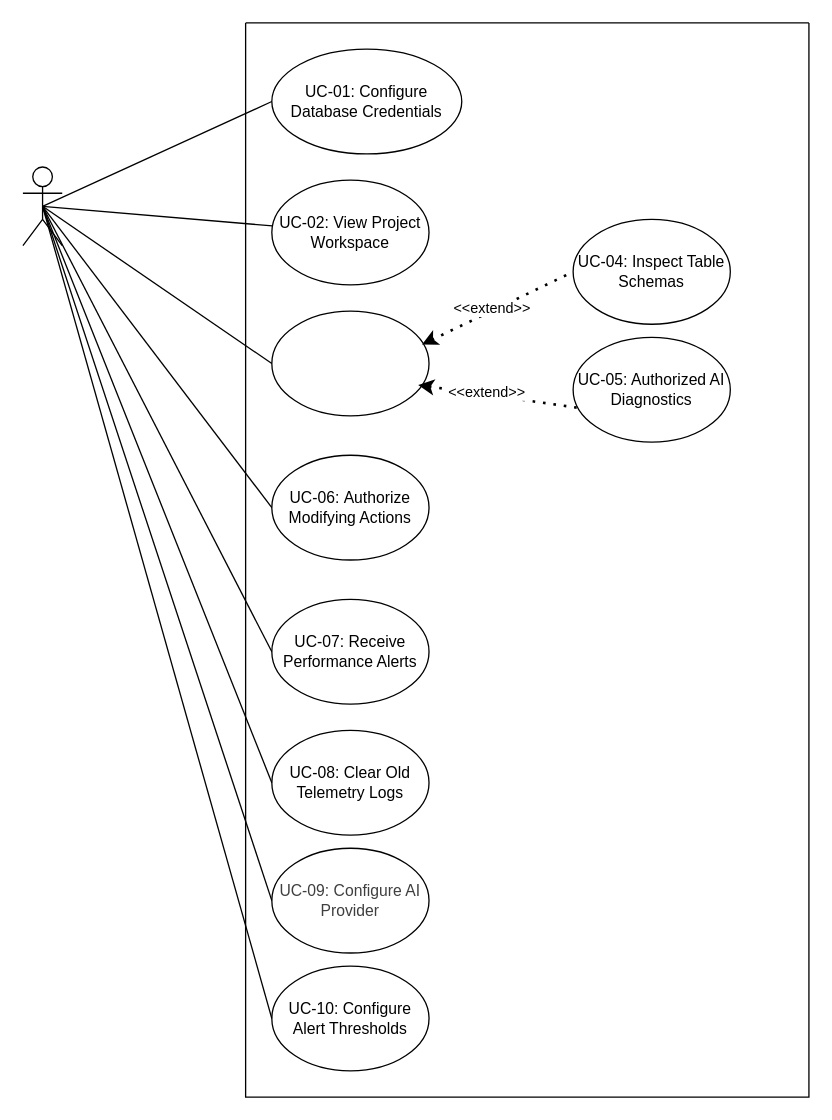
Image size: 832x1120. Some labels were removed from this diagram. The shapes that lost their labels are listed below. From the top down, each one's centre as x and y in pixels, then its label:
(42,206): User
(350,363): UC-03: Troubleshoot Database via Chat
